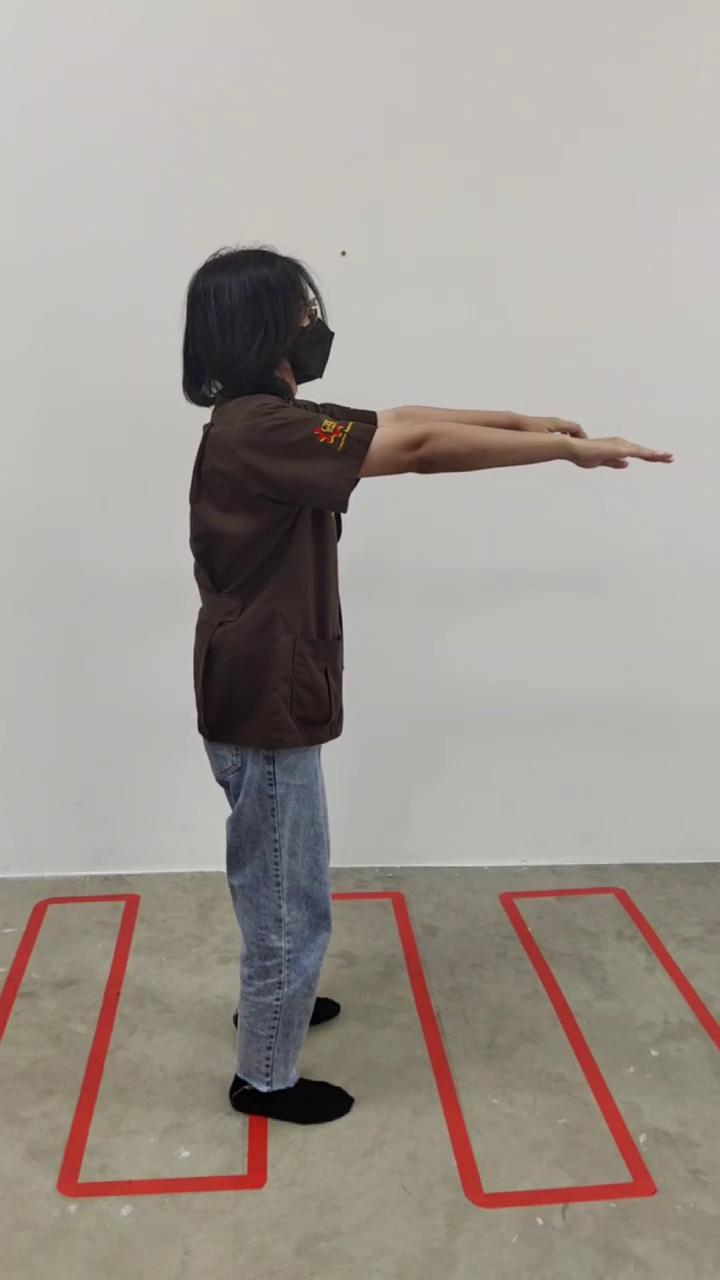squat up: (182, 248, 672, 1125)
